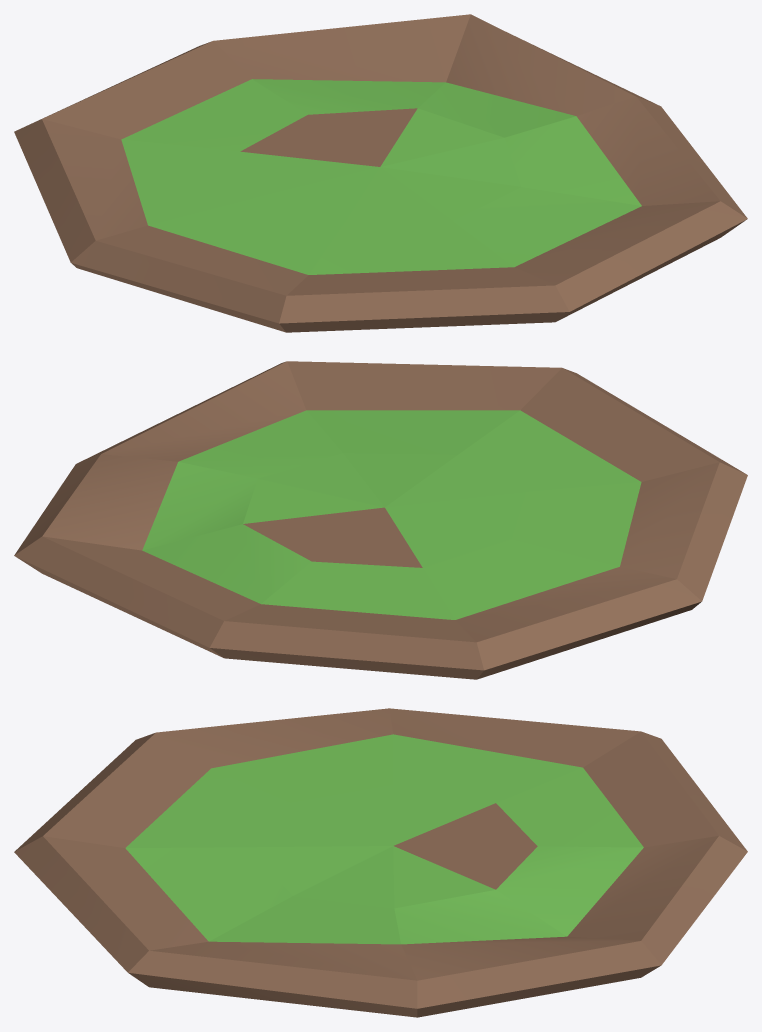
Rendered from treeBase.fbx.
The picture shows the model from 3 angles, top to bottom: view 1: azimuth 30°, elevation 25°; view 2: azimuth 150°, elevation 25°; view 3: azimuth 270°, elevation 25°; orthographic projection.
Parts seen in each view (by area): view 1: treeBase; view 2: treeBase; view 3: treeBase.
Boxes of the visible parts, x1,y1,x2,y2 form: treeBase: [14, 14, 747, 332]; treeBase: [14, 361, 747, 679]; treeBase: [14, 708, 747, 1017].
Bounding box in the file's own units: 698 × 55.76 × 734.
2 materials, 2 textured.
